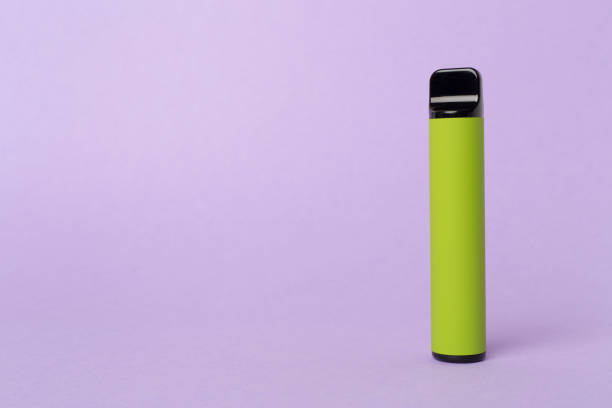cigarette: (426, 62, 487, 362)
